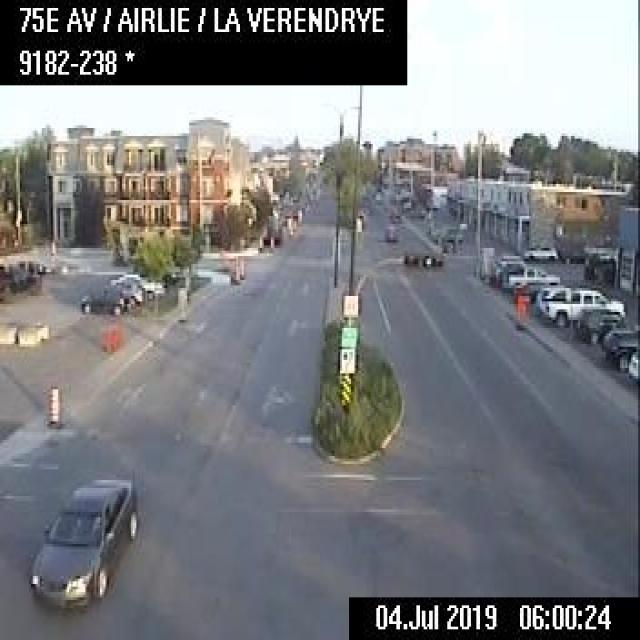construction: (45, 381, 59, 427), (174, 284, 190, 324), (514, 293, 525, 330), (231, 252, 239, 284), (238, 251, 244, 277), (104, 325, 110, 350), (109, 326, 115, 349), (285, 216, 292, 235), (295, 206, 302, 224), (255, 232, 262, 250), (268, 234, 274, 252), (49, 238, 55, 255), (291, 215, 296, 230)
vehicle: (24, 469, 140, 611), (542, 285, 623, 328), (572, 304, 622, 344), (0, 258, 47, 298), (599, 324, 638, 370), (109, 270, 161, 298), (508, 266, 558, 292), (79, 288, 121, 314), (520, 243, 558, 264), (438, 224, 462, 248), (626, 346, 638, 379), (382, 222, 397, 239), (387, 208, 400, 224)
